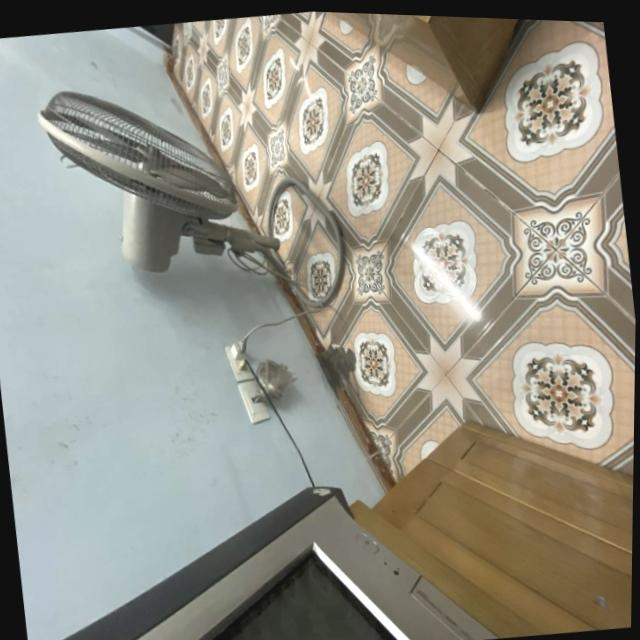outlet: (236, 377, 272, 426), (223, 340, 256, 382)
